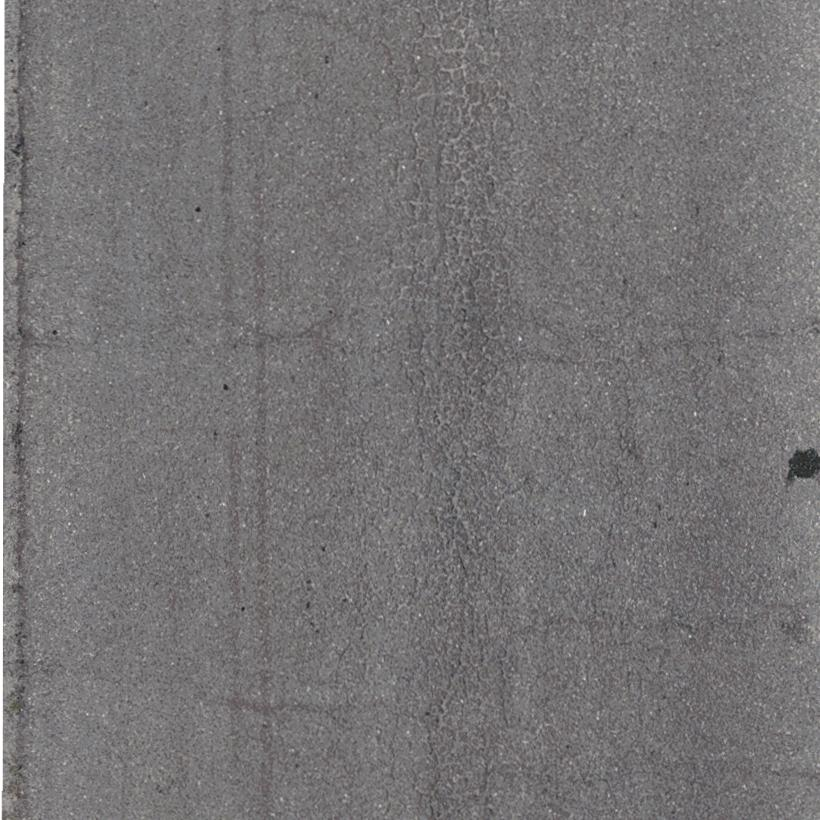PIEL DE COCODRILO: (362, 0, 541, 819)
